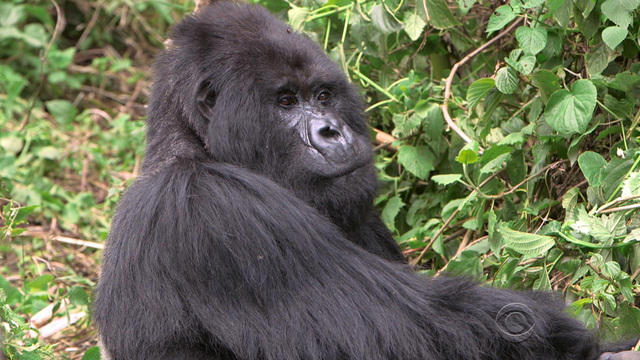Goriila: (121, 6, 570, 360)
